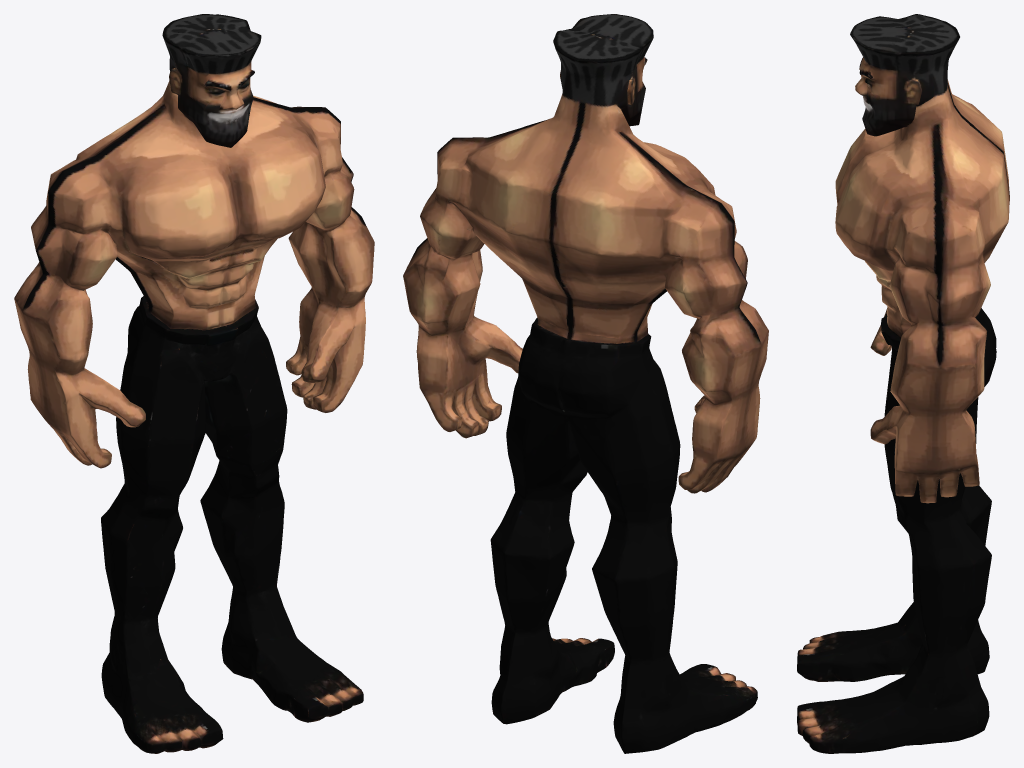
Rendered from Arthur_HeroReference_Full_White_S1337_D80000_Trellis2.glb.
3 views of the same model, side by side, from view 1: azimuth 30°, elevation 25°; view 2: azimuth 150°, elevation 25°; view 3: azimuth 270°, elevation 25° (orthographic).
Parts seen in each view (by area): view 1: world; view 2: world; view 3: world.
Part boxes in pixels (x1,y1,x2,y2): world: (14,14,374,753); world: (403,14,768,753); world: (797,14,1009,753).
Bounding box in the file's own units: 0.5399 × 1 × 0.2867.
Materials: 1 (1 with a texture image).
